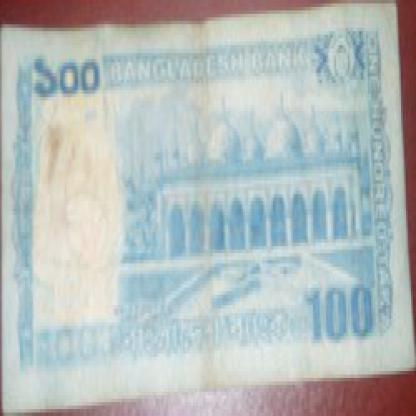one hundred taka: (300, 263, 380, 354), (27, 48, 103, 111)
